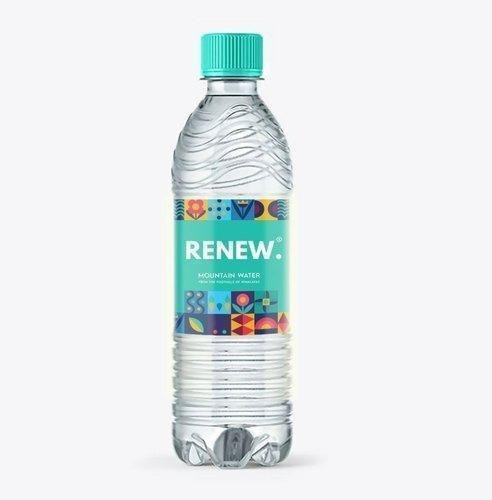bottle-plastic: (167, 28, 298, 471)
